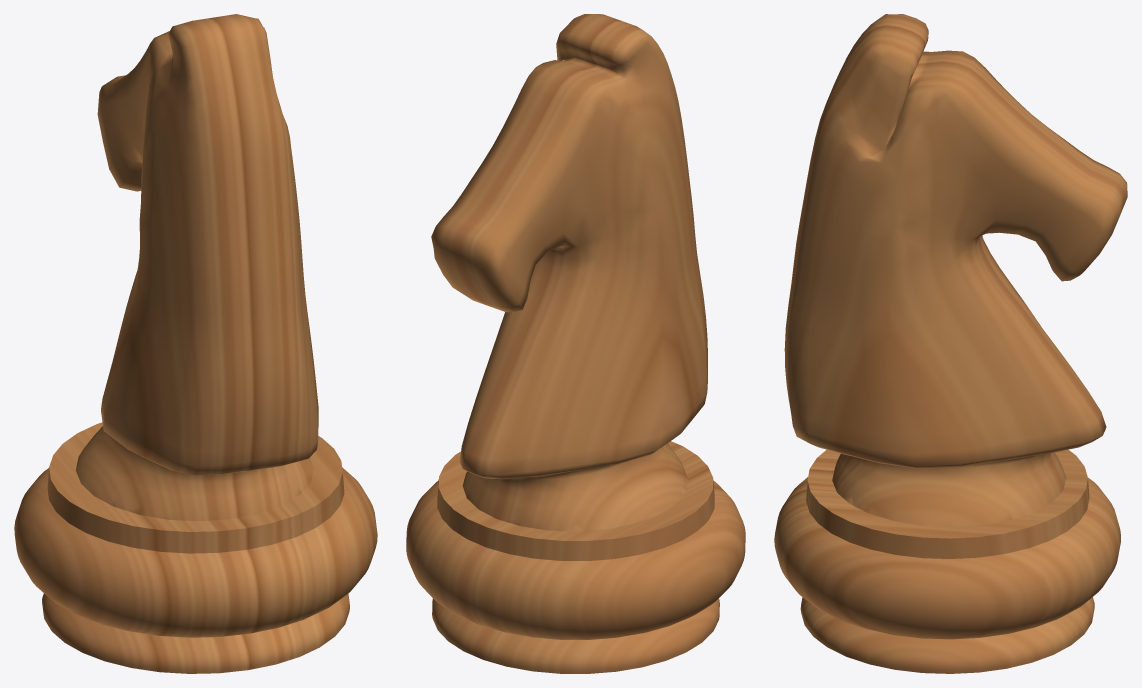
Rendered from WhiteKnight.FBX.
3 views of the same model, side by side, from view 1: azimuth 30°, elevation 25°; view 2: azimuth 150°, elevation 25°; view 3: azimuth 270°, elevation 25° (orthographic). The views are drawn at different scales.
Visible parts, largest first — view 1: KnightW2; view 2: KnightW2; view 3: KnightW2.
Boxes of the visible parts, x1,y1,x2,y2 form: KnightW2: (14,14,377,673); KnightW2: (406,14,745,673); KnightW2: (774,14,1127,673).
Bounding box in the file's own units: 0.1807 × 0.1841 × 0.335.
1 material, 1 textured.
